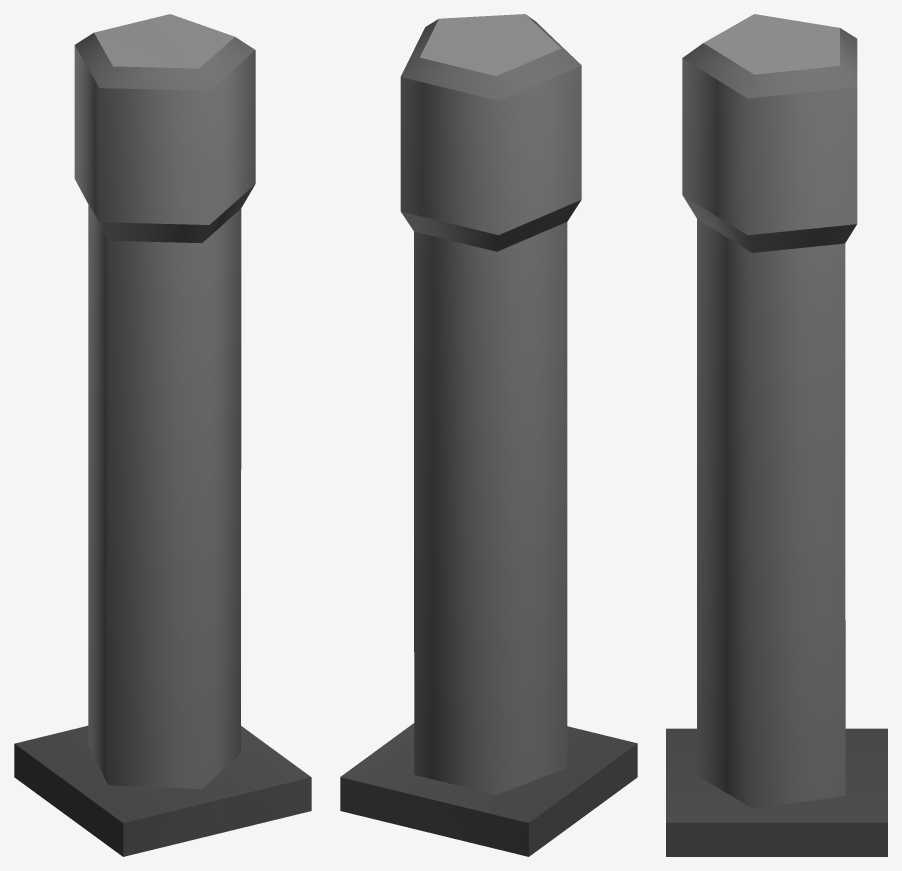
The model's file is Bollards_4_D.fbx.
3 renders of one model, left to right at view 1: azimuth 30°, elevation 25°; view 2: azimuth 150°, elevation 25°; view 3: azimuth 270°, elevation 25°, orthographic.
Parts seen in each view (by area): view 1: Bollards_4_D; view 2: Bollards_4_D; view 3: Bollards_4_D.
Part boxes in pixels (x1,y1,x2,y2): Bollards_4_D: [14, 14, 311, 856]; Bollards_4_D: [340, 14, 637, 856]; Bollards_4_D: [666, 14, 887, 856].
Size of the model in its own units: 15.3 by 58.39 by 15.3.
